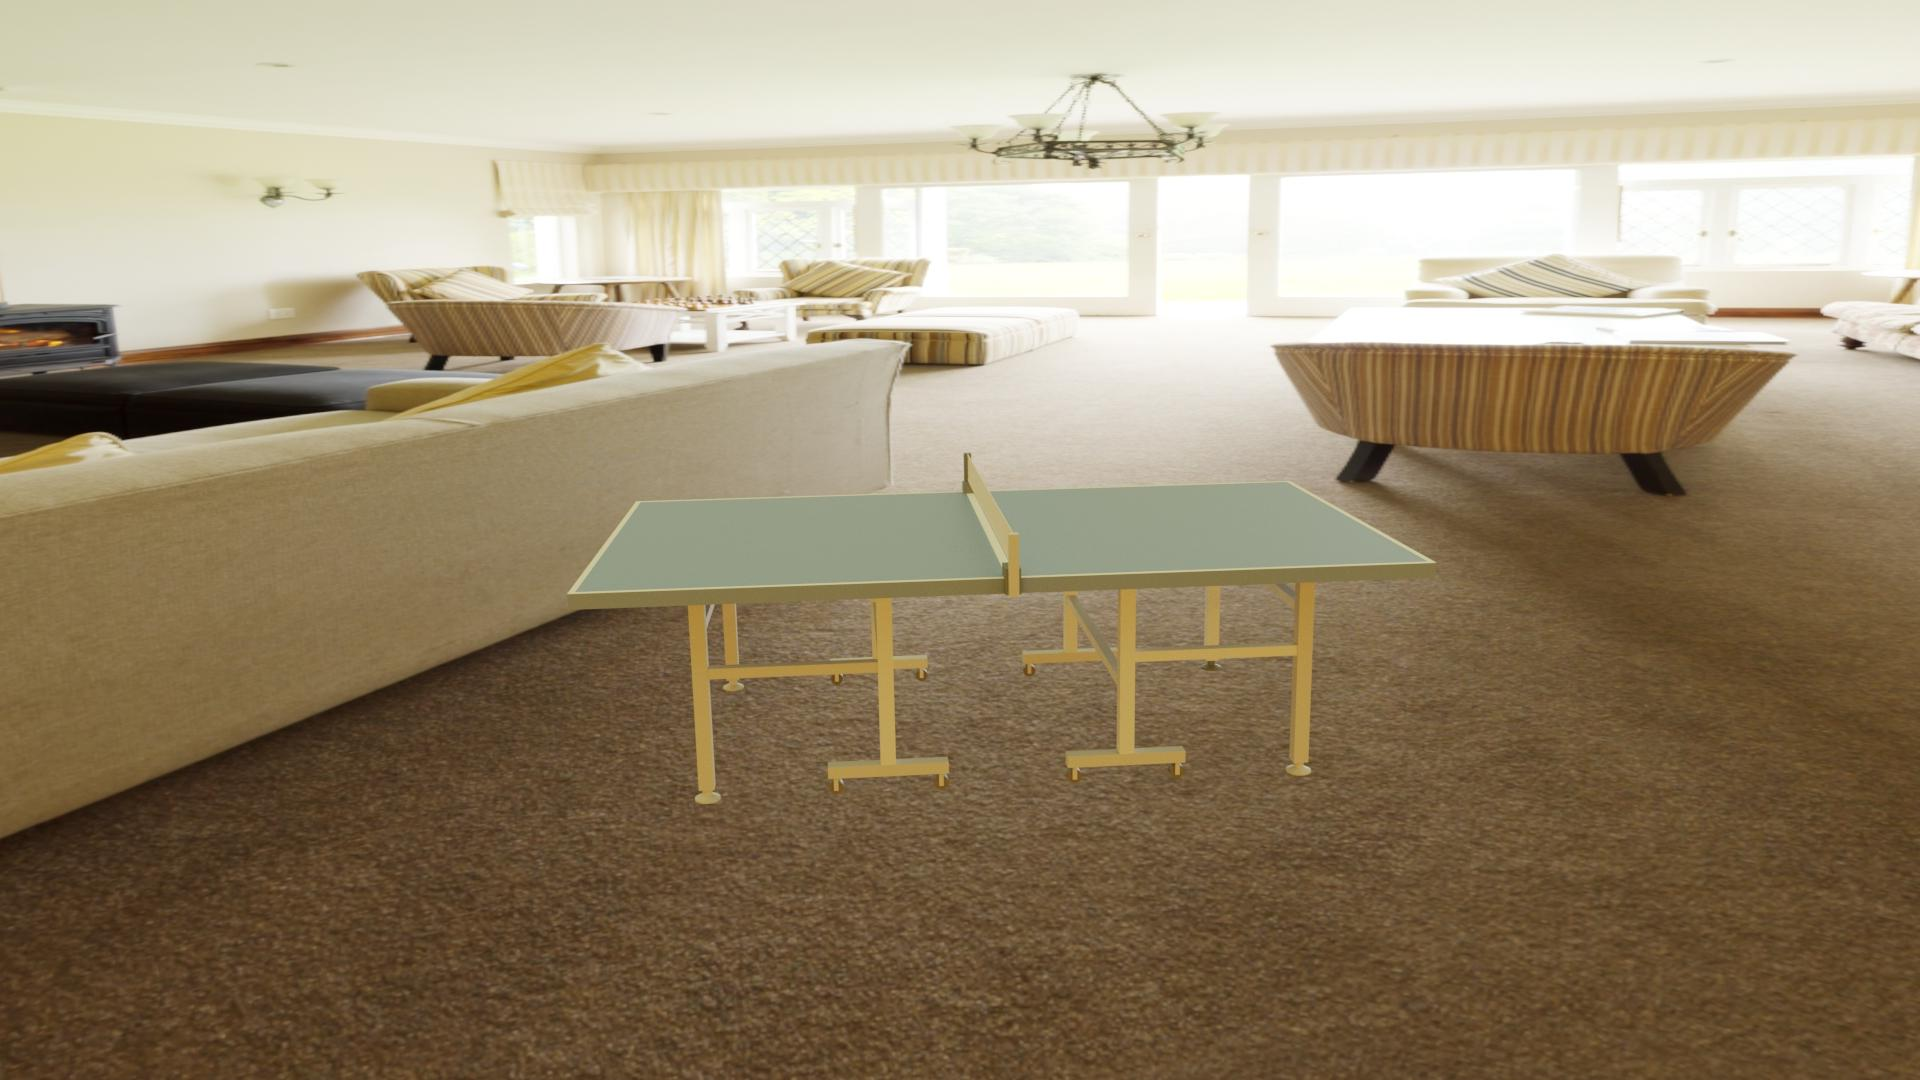table: (575, 481, 1428, 592)
